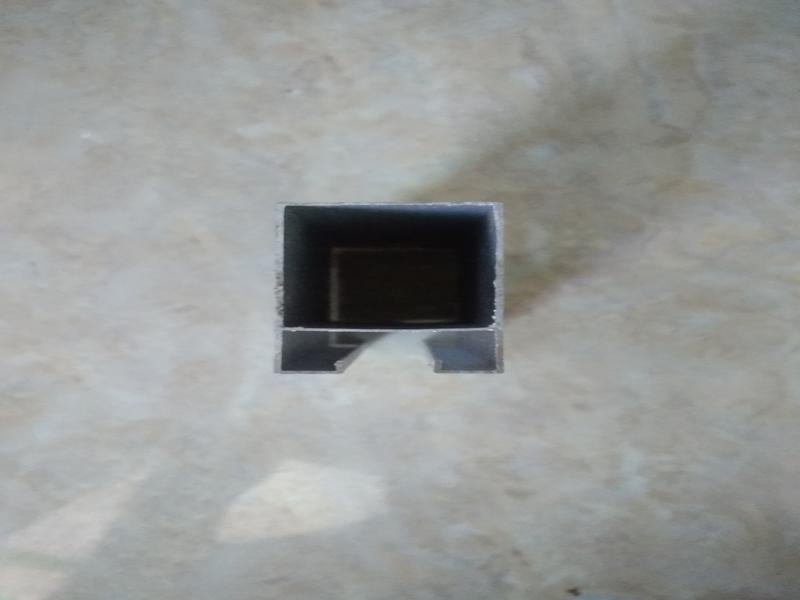Aluminium_1: (258, 179, 527, 396)
